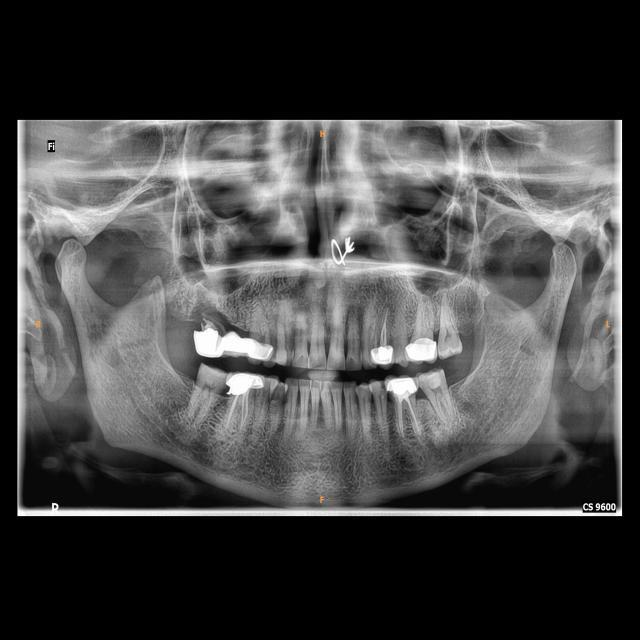dentin-curugu: (270, 386, 284, 404)
kanal-tedavisi: (396, 400, 424, 438), (228, 394, 248, 430), (377, 307, 390, 344)
kaplama: (192, 326, 220, 359), (229, 370, 261, 396), (403, 338, 436, 362), (385, 374, 417, 398), (247, 337, 276, 363), (368, 346, 394, 364)
kopru: (219, 324, 254, 360)
